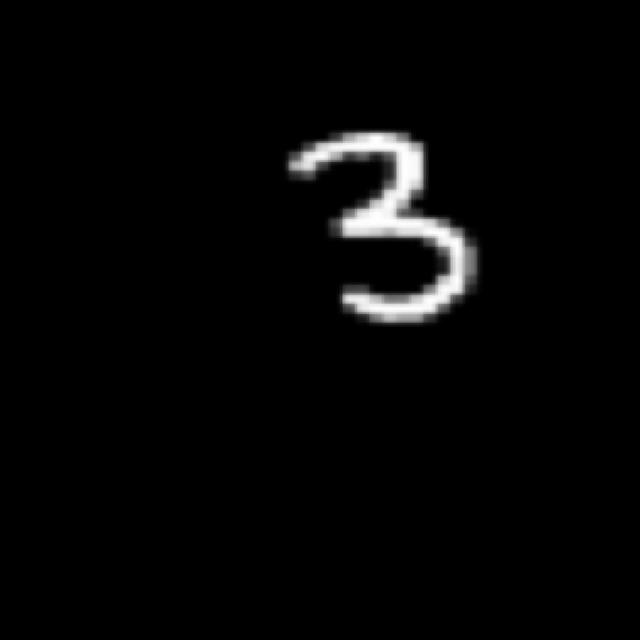three -3-: (280, 120, 490, 332)
